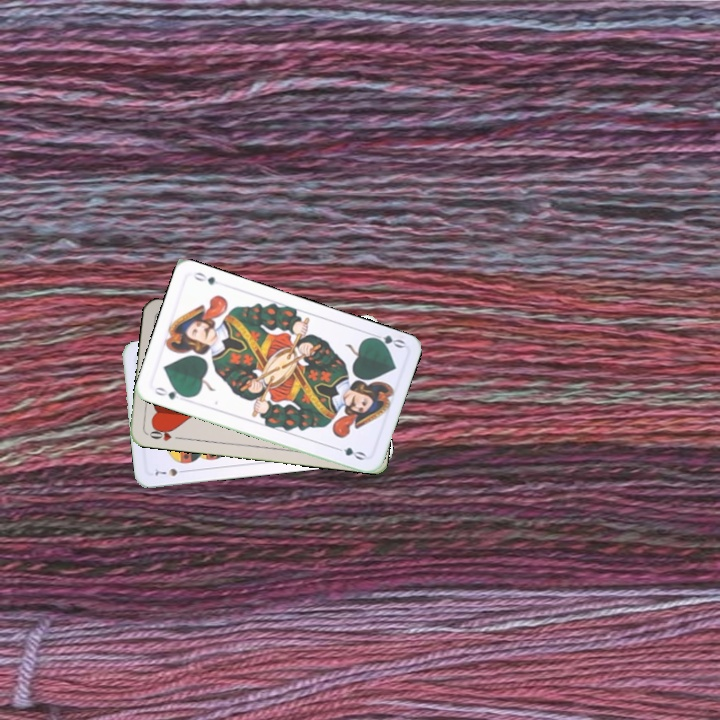GO: (366, 329, 407, 351), (150, 383, 190, 402)
HO: (144, 423, 184, 443)
S7: (151, 464, 189, 479)
